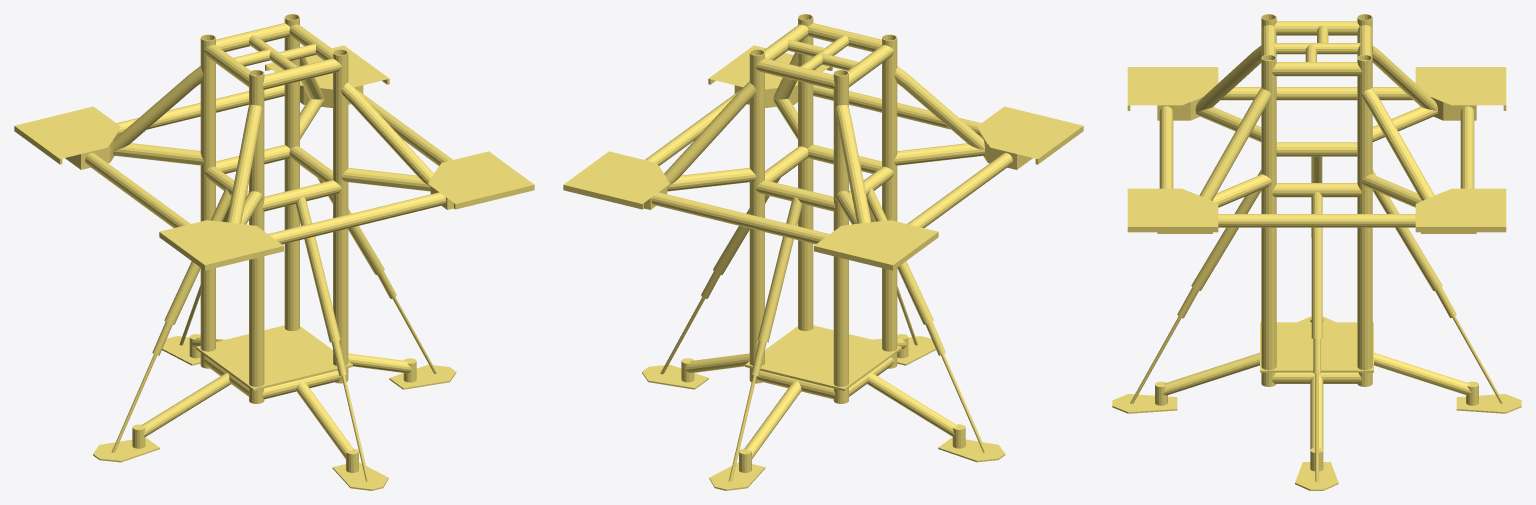
Rendered from roketdenemesi3.gltf.
The picture shows the model from 3 angles, left to right: view 1: azimuth 30°, elevation 25°; view 2: azimuth 150°, elevation 25°; view 3: azimuth 270°, elevation 25°; orthographic projection.
Visible parts, largest first — view 1: Cylinder.001; view 2: Cylinder.001; view 3: Cylinder.001.
Part boxes in pixels (x1,y1,x2,y2): Cylinder.001: (14,14,534,490); Cylinder.001: (563,14,1083,490); Cylinder.001: (1112,14,1521,490).
Bounding box in the file's own units: 33.99 × 33.63 × 33.99.
